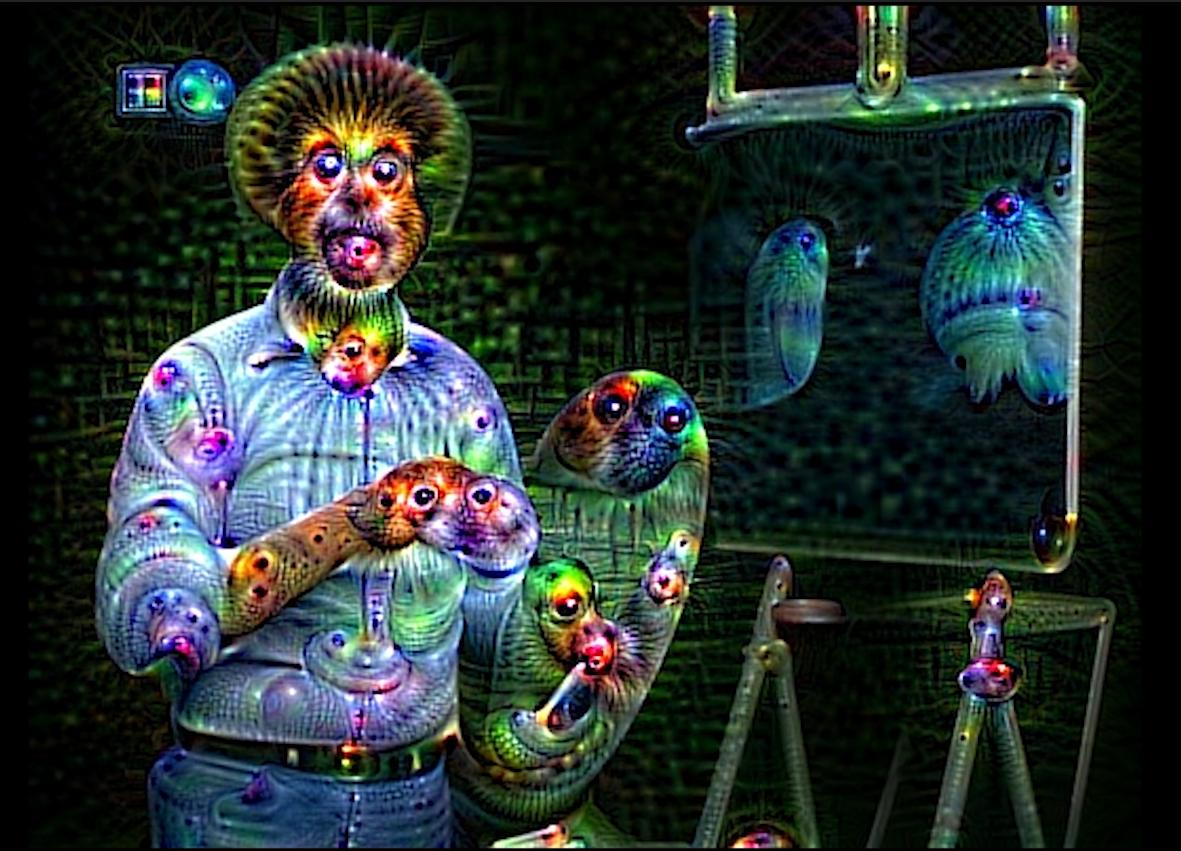NoHuman: (0, 0, 1174, 851)
